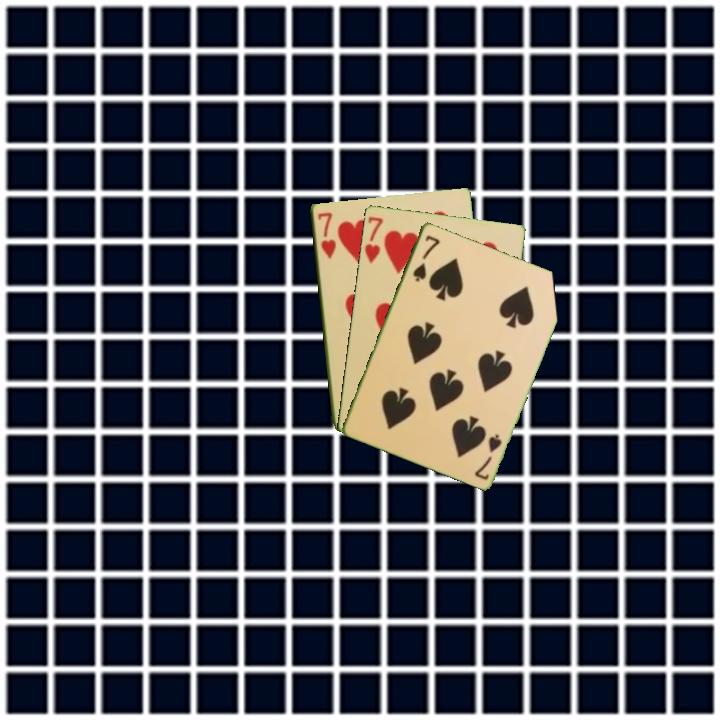7h: (314, 209, 338, 262), (361, 213, 385, 266)
7s: (409, 231, 442, 284), (471, 430, 504, 483)
